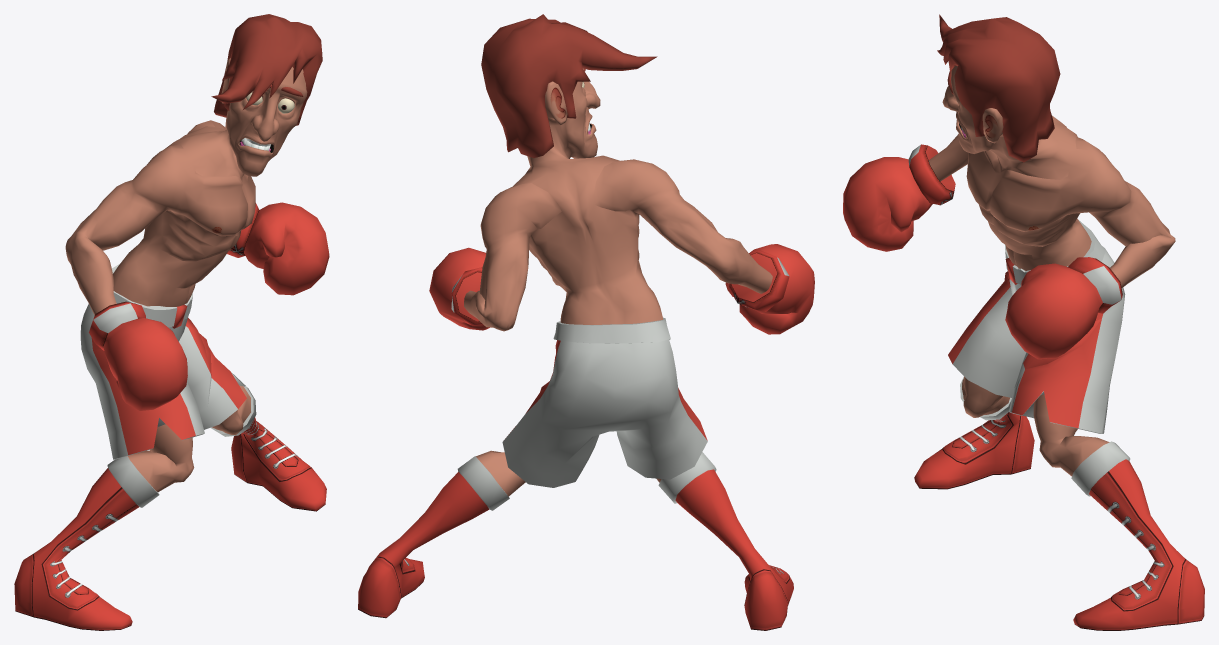
The model's file is glass_joe 1.glb.
3 renders of one model, left to right at view 1: azimuth 30°, elevation 25°; view 2: azimuth 150°, elevation 25°; view 3: azimuth 270°, elevation 25°, orthographic. The views are drawn at different scales.
Parts seen in each view (by area): view 1: Object_6, Object_15, Object_9, Object_10, Object_16, Object_4, Object_14; view 2: Object_6, Object_10, Object_9, Object_16, Object_15, Object_14; view 3: Object_6, Object_15, Object_9, Object_16, Object_10, Object_4, Object_14, Object_11.
Part boxes in pixels (x1=…): Object_6: x1=65, y1=58, x2=307, y2=491; Object_15: x1=91, y1=202, x2=329, y2=454; Object_9: x1=14, y1=421, x2=326, y2=630; Object_10: x1=80, y1=264, x2=256, y2=507; Object_16: x1=211, y1=14, x2=322, y2=125; Object_4: x1=49, y1=417, x2=302, y2=602; Object_14: x1=89, y1=203, x2=259, y2=350; Object_6: x1=464, y1=68, x2=772, y2=496; Object_10: x1=451, y1=257, x2=789, y2=510; Object_9: x1=358, y1=469, x2=793, y2=630; Object_16: x1=481, y1=14, x2=657, y2=157; Object_15: x1=429, y1=244, x2=814, y2=440; Object_14: x1=451, y1=250, x2=789, y2=325; Object_6: x1=928, y1=65, x2=1175, y2=476; Object_15: x1=843, y1=145, x2=1102, y2=428; Object_9: x1=914, y1=412, x2=1204, y2=630; Object_16: x1=937, y1=14, x2=1060, y2=162; Object_10: x1=908, y1=145, x2=1130, y2=496; Object_4: x1=951, y1=418, x2=1165, y2=604; Object_14: x1=909, y1=144, x2=1122, y2=313; Object_11: x1=982, y1=108, x2=1003, y2=141.
Bounding box in the file's own units: 11.71 × 17.2 × 9.97.
Materials: 15 (15 with a texture image).
